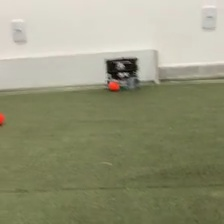ball: (108, 80, 120, 91), (1, 110, 5, 124)
goal: (1, 46, 160, 92)
robot: (103, 57, 141, 91)
